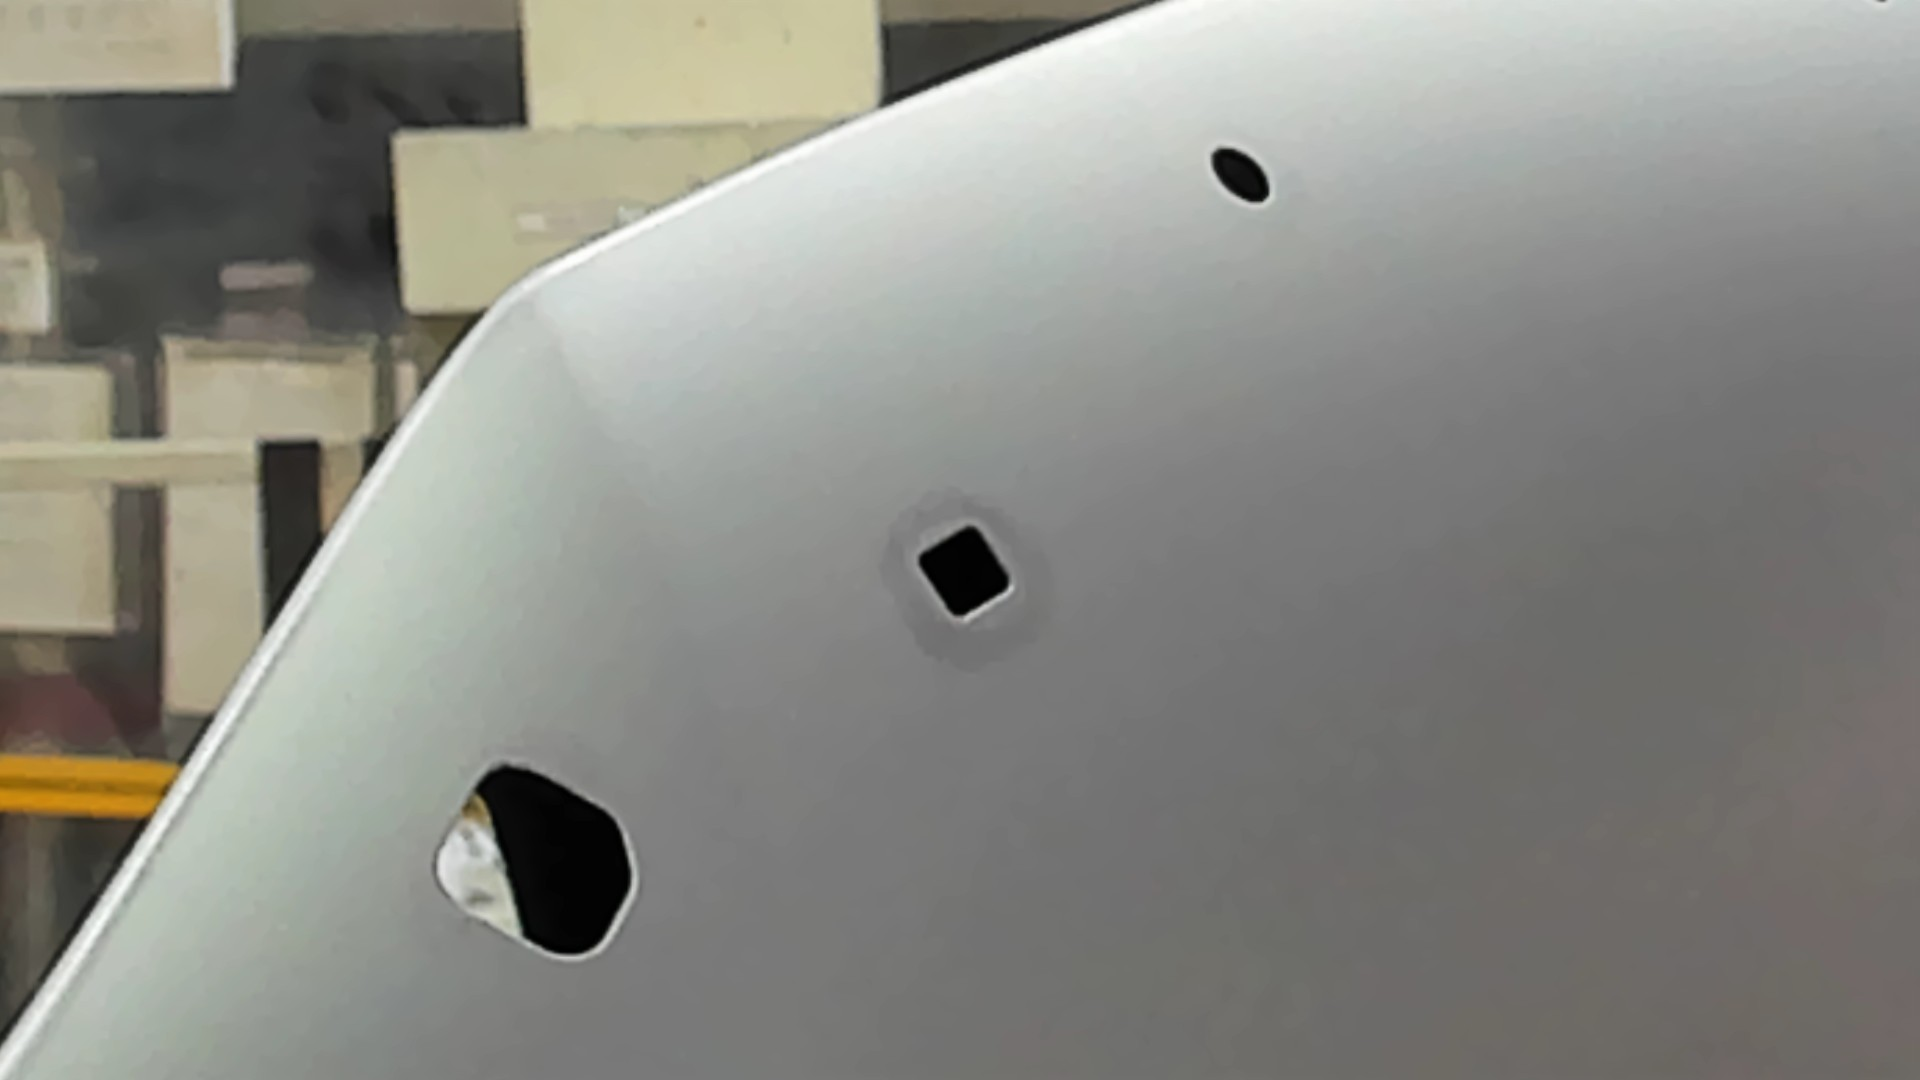capo: (1026, 216, 1920, 1080)
chico: (1204, 136, 1274, 210)
grande: (427, 754, 641, 968)
mediano: (905, 518, 1021, 628)
